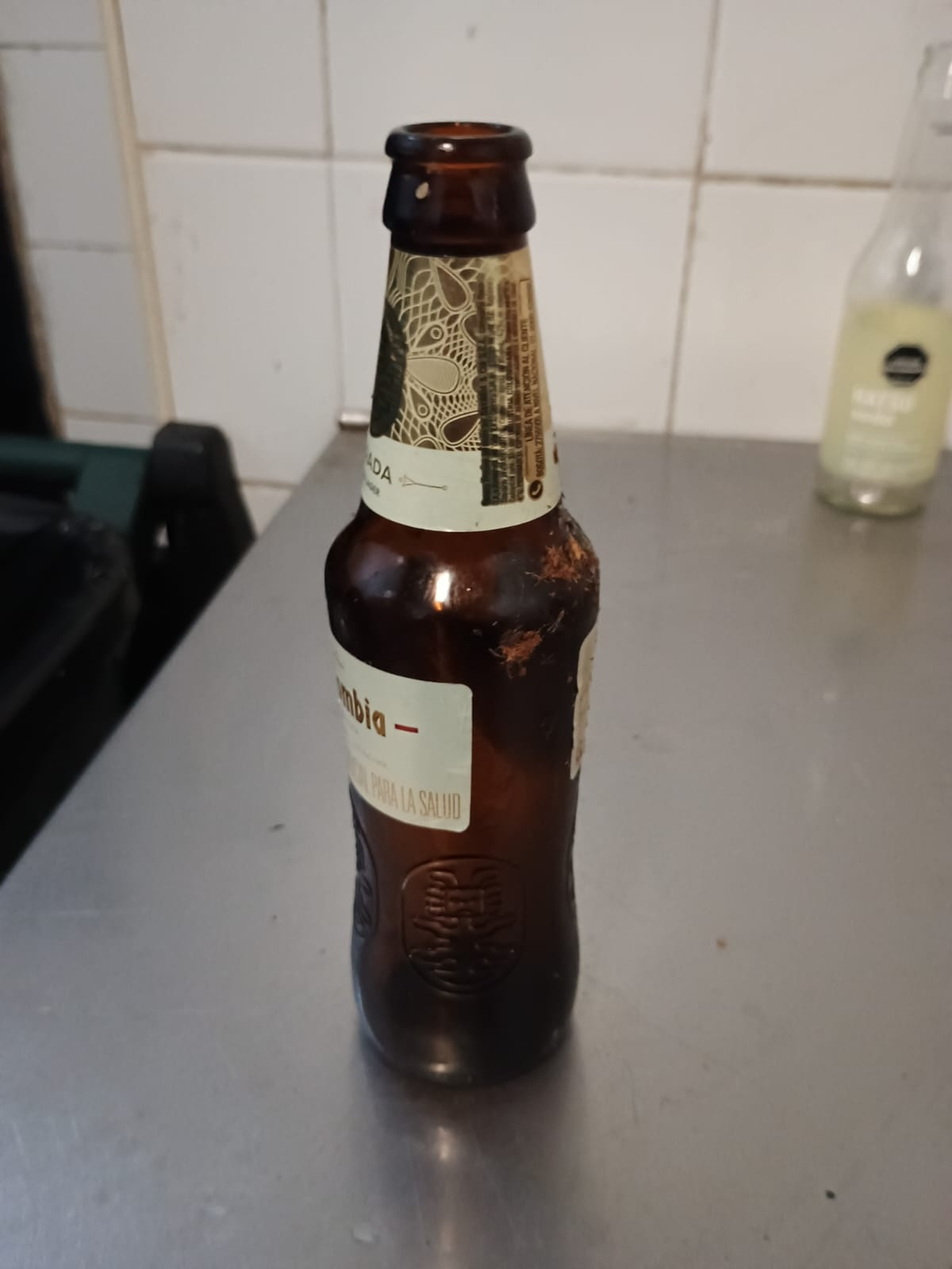Vidrio: (324, 122, 604, 1085), (809, 39, 952, 526)
